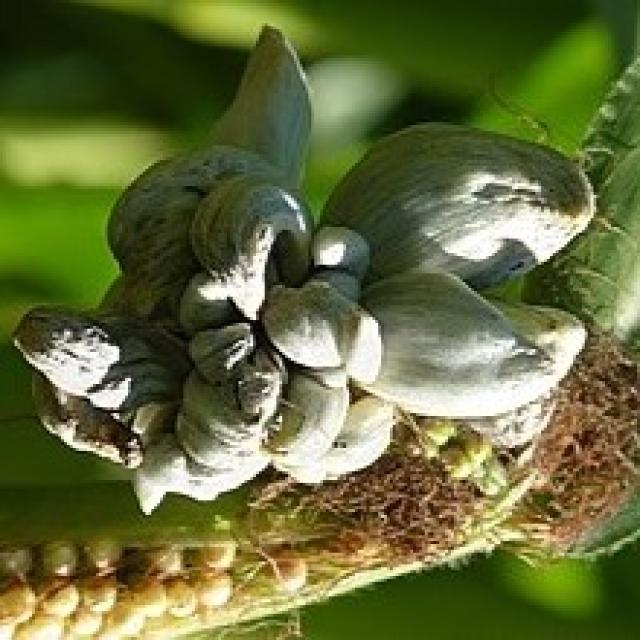Leaf_Scald: (3, 12, 636, 564)
